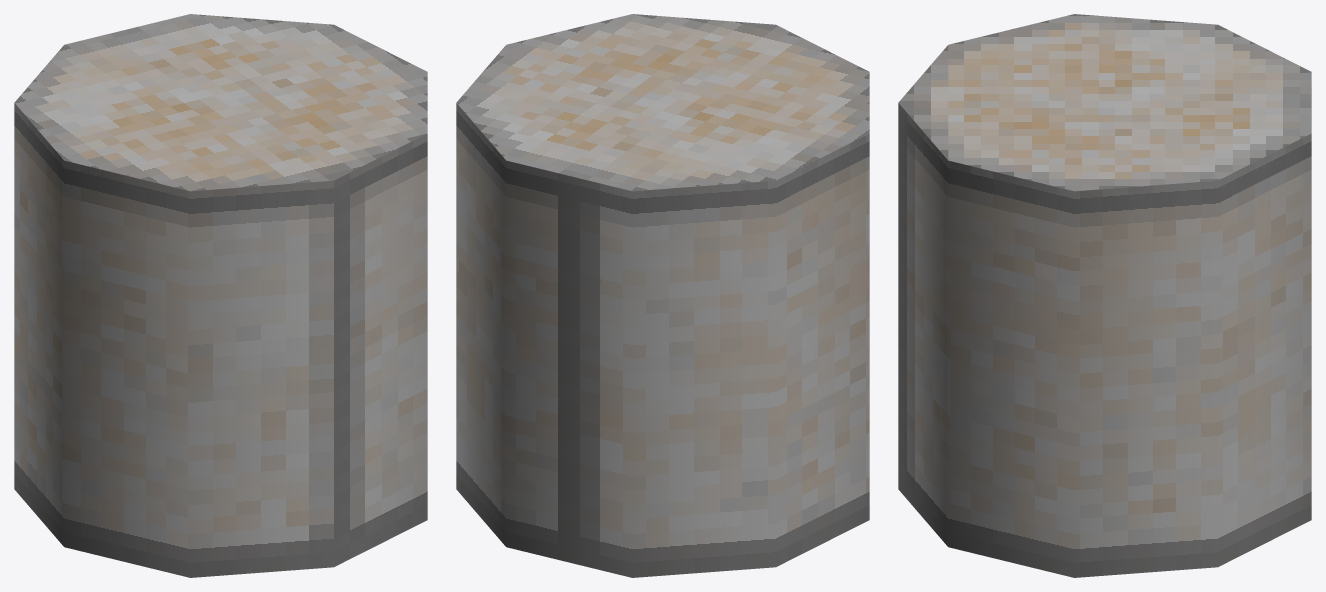
File: Connector.glb
The picture shows the model from 3 angles, left to right: view 1: azimuth 30°, elevation 25°; view 2: azimuth 150°, elevation 25°; view 3: azimuth 270°, elevation 25°; orthographic projection.
Parts seen in each view (by area): view 1: Connector; view 2: Connector; view 3: Connector.
Part boxes in pixels (x1=…): Connector: x1=14, y1=14, x2=427, y2=577; Connector: x1=456, y1=14, x2=869, y2=577; Connector: x1=898, y1=14, x2=1311, y2=577.
Size of the model in its own units: 0.0786 by 0.0798 by 0.0774.
Materials: 1 (1 with a texture image).
